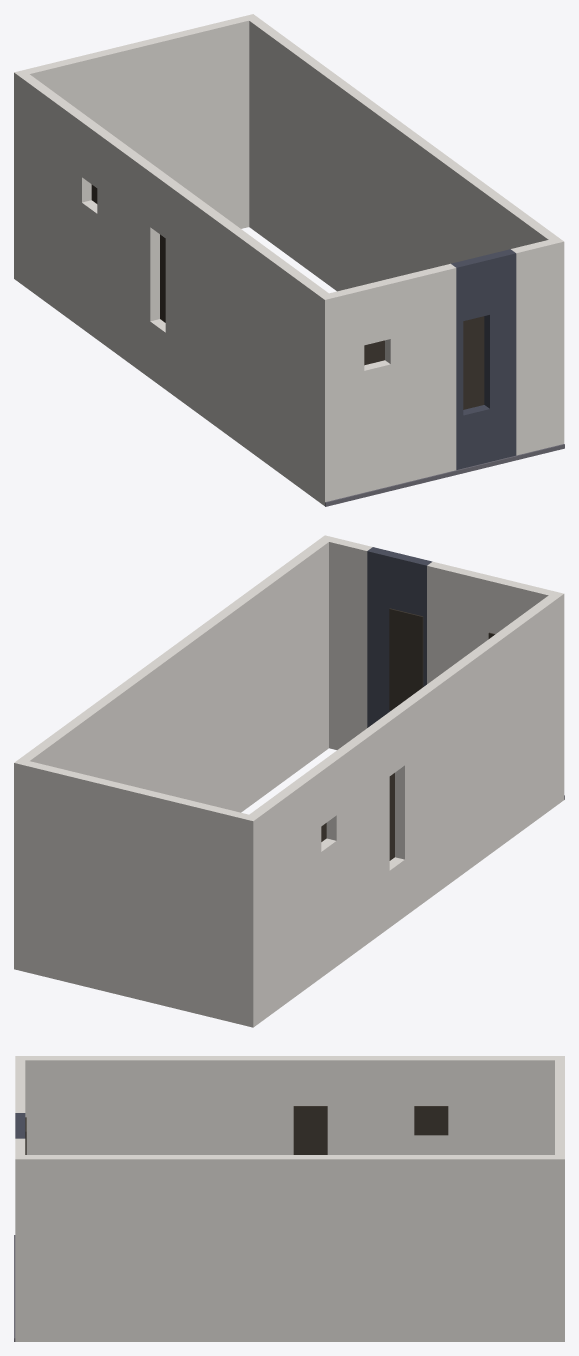
Rendered from SM_Floor_NarrowUpperScatterHighEndL_White_364_01.gltf.
3 views of the same model, one above another, from view 1: azimuth 30°, elevation 25°; view 2: azimuth 150°, elevation 25°; view 3: azimuth 270°, elevation 25° (orthographic). The views are drawn at different scales.
Visible parts, largest first — view 1: SM_Floor_NarrowUpperScatterHighEndL_White_364_01; view 2: SM_Floor_NarrowUpperScatterHighEndL_White_364_01; view 3: SM_Floor_NarrowUpperScatterHighEndL_White_364_01.
Part boxes in pixels (left/top/right/bottom): SM_Floor_NarrowUpperScatterHighEndL_White_364_01: left=14, top=14, right=564, bottom=506; SM_Floor_NarrowUpperScatterHighEndL_White_364_01: left=14, top=535, right=564, bottom=1027; SM_Floor_NarrowUpperScatterHighEndL_White_364_01: left=14, top=1056, right=564, bottom=1341.
Bounding box in the file's own units: 3.64 × 3 × 8.21.
1 material, 1 textured.
